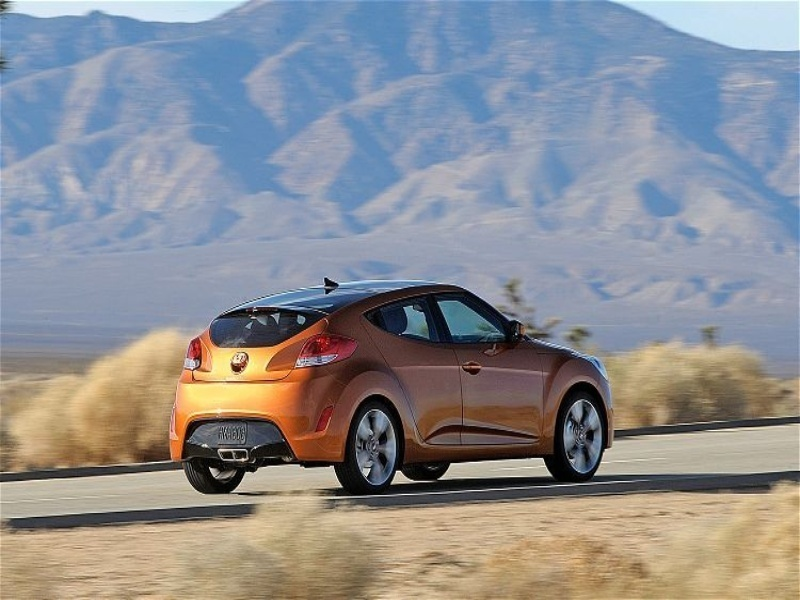normal car: (152, 273, 655, 511)
